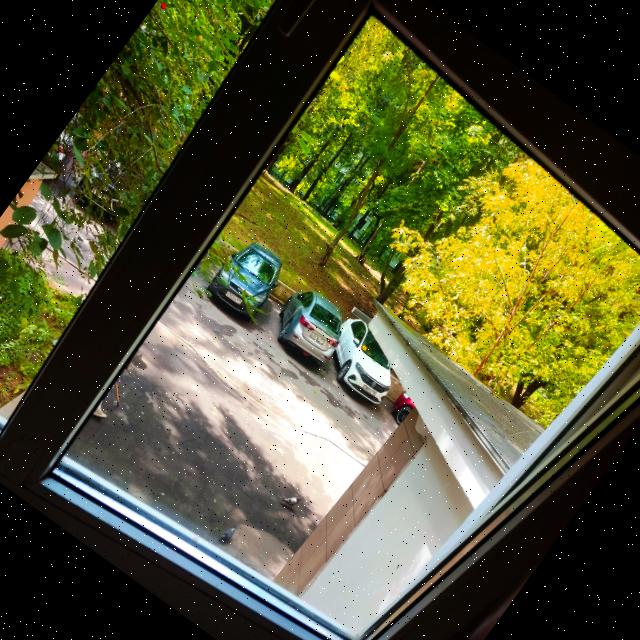car: (208, 240, 286, 322), (334, 314, 394, 408), (278, 287, 342, 370)
